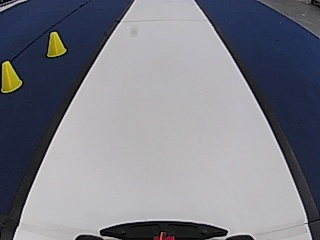cone: (0, 60, 22, 92), (46, 30, 67, 57)
